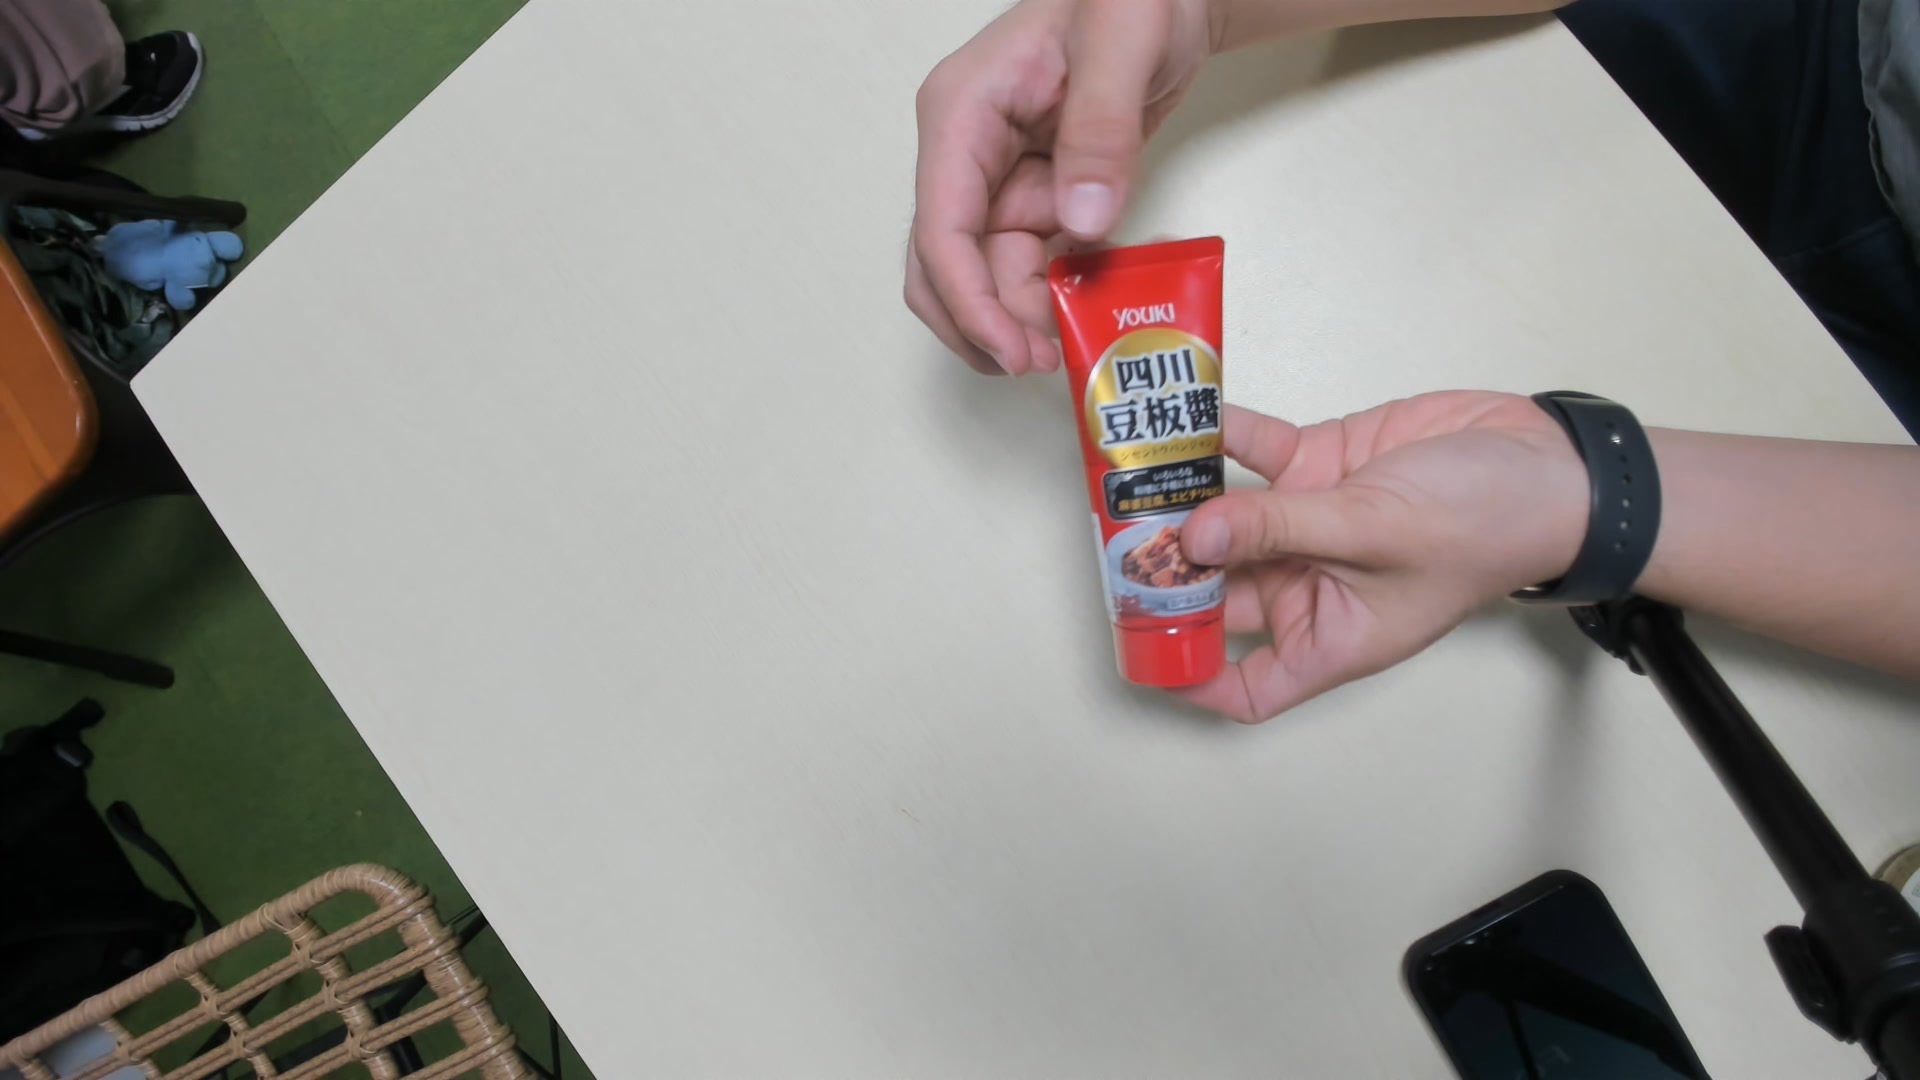OtherSauceDressing_100-199g_NonHalal_NonHealthy: (1073, 243, 1233, 691)
